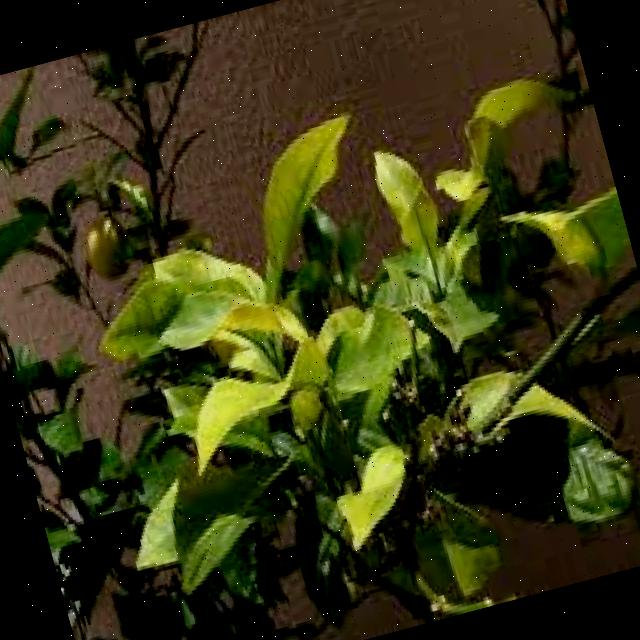yellow: (47, 30, 640, 640)
